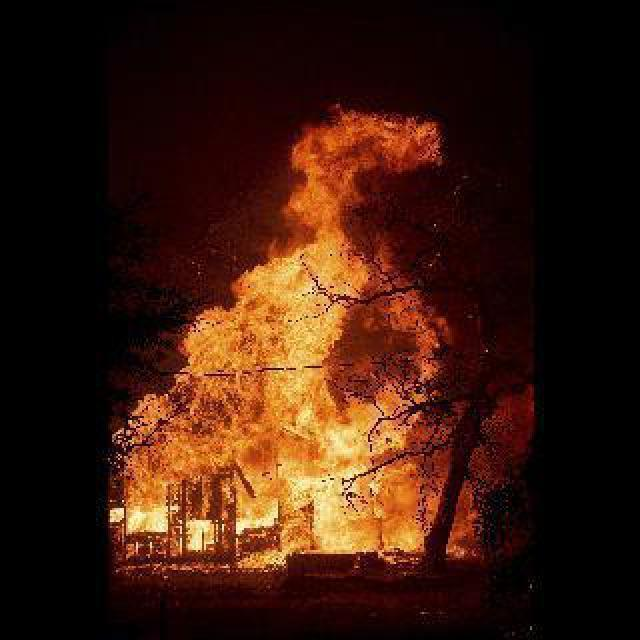Fire: (109, 110, 530, 566)
